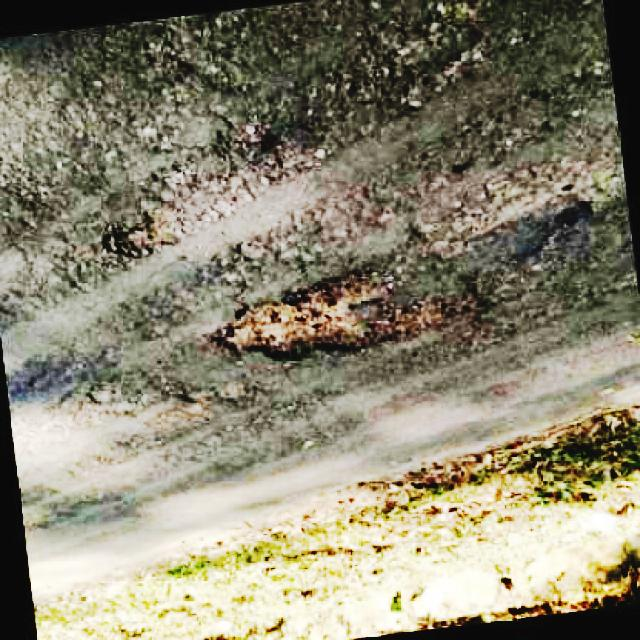pothole: (210, 240, 502, 362), (97, 145, 271, 266)
